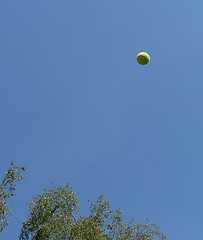tennis ball: (134, 50, 153, 68)
